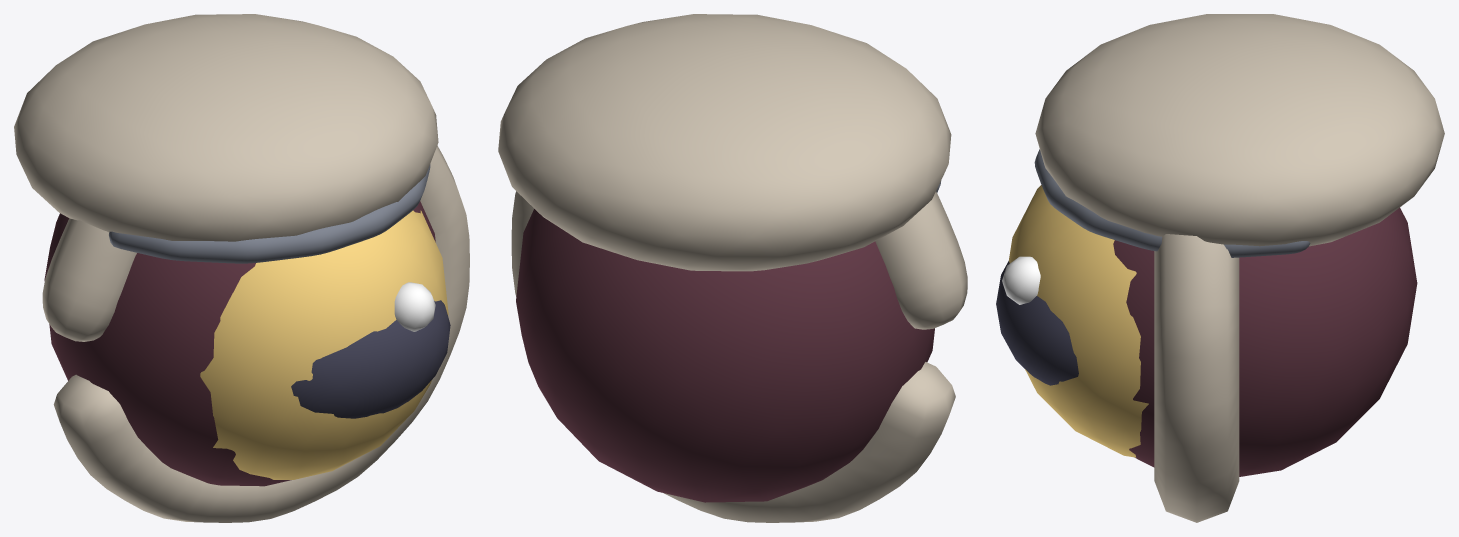
File: creature.frogeye.glb
3 renders of one model, left to right at view 1: azimuth 30°, elevation 25°; view 2: azimuth 150°, elevation 25°; view 3: azimuth 270°, elevation 25°, orthographic. The views are drawn at different scales.
Parts seen in each view (by area): view 1: Skin, Beak, Dark, Pupil, BackSkin, Glint; view 2: Skin, Dark; view 3: Skin, Dark, Beak, Pupil, BackSkin, Glint.
Part boxes in pixels (<box>): Skin: <box>14,14,469,522</box>; Beak: <box>200,210,448,479</box>; Dark: <box>44,201,435,486</box>; Pupil: <box>291,300,450,418</box>; BackSkin: <box>109,164,430,263</box>; Glint: <box>394,282,435,331</box>; Skin: <box>498,14,967,522</box>; Dark: <box>516,209,934,502</box>; Skin: <box>1035,14,1444,522</box>; Dark: <box>1113,207,1417,476</box>; Beak: <box>1009,185,1148,457</box>; Pupil: <box>996,261,1078,385</box>; BackSkin: <box>1034,149,1310,257</box>; Glint: <box>1002,256,1040,304</box>.
Size of the model in its own units: 2.41 by 2.5 by 2.28.
